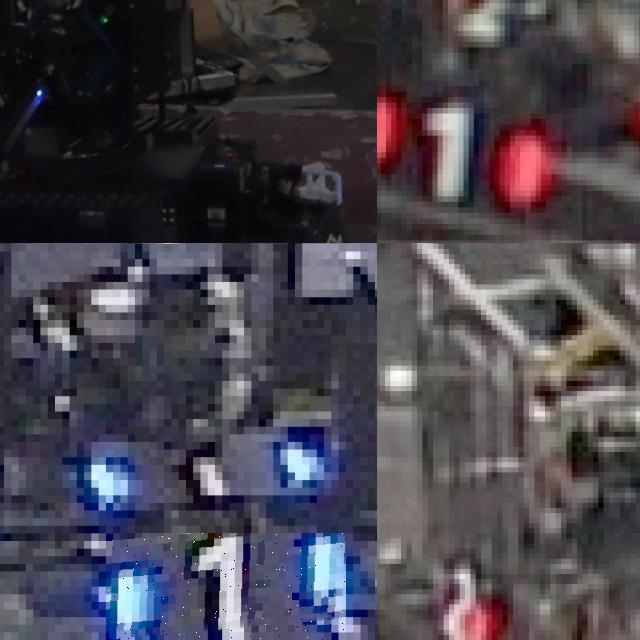B1: (106, 533, 346, 640)
R1: (377, 85, 551, 218)
R2: (433, 563, 491, 640)
